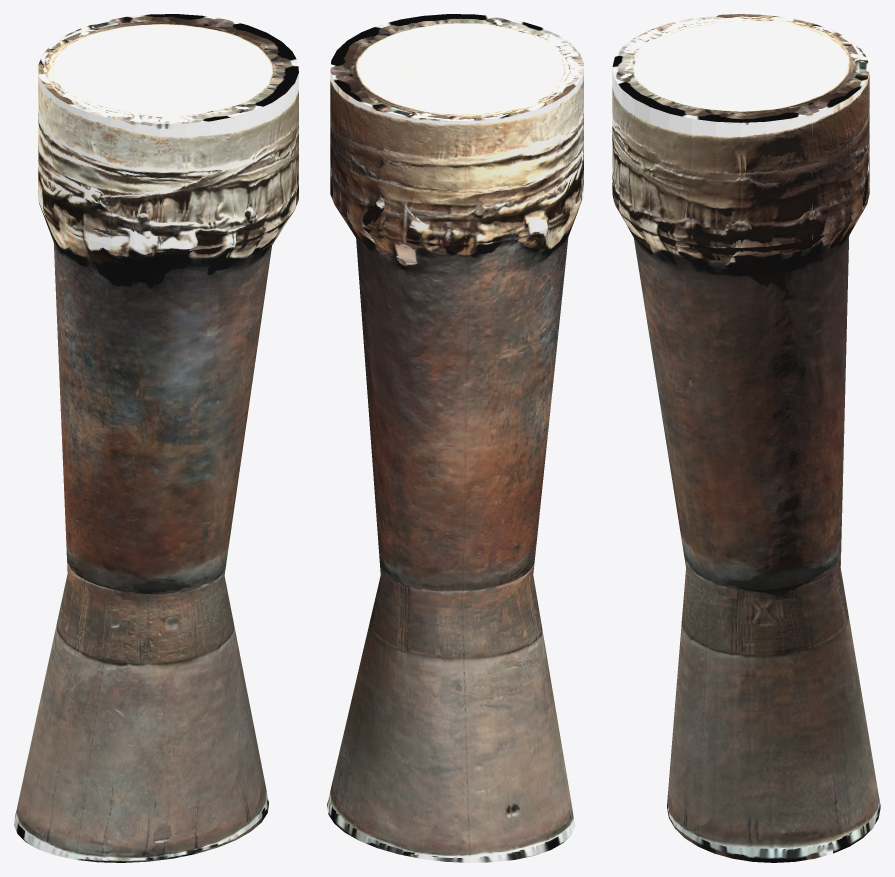
Rendered from DrumLowResBaking.glb.
3 views of the same model, side by side, from view 1: azimuth 30°, elevation 25°; view 2: azimuth 150°, elevation 25°; view 3: azimuth 270°, elevation 25° (orthographic). The views are drawn at different scales.
Visible parts, largest first — view 1: Drum; view 2: Drum; view 3: Drum.
Part boxes in pixels (box(x1,y1,x2,y2)): Drum: box(14, 14, 298, 862); Drum: box(327, 14, 583, 862); Drum: box(612, 14, 880, 862).
Bounding box in the file's own units: 0.00869 × 0.0262 × 0.00858.
Materials: 1 (1 with a texture image).
